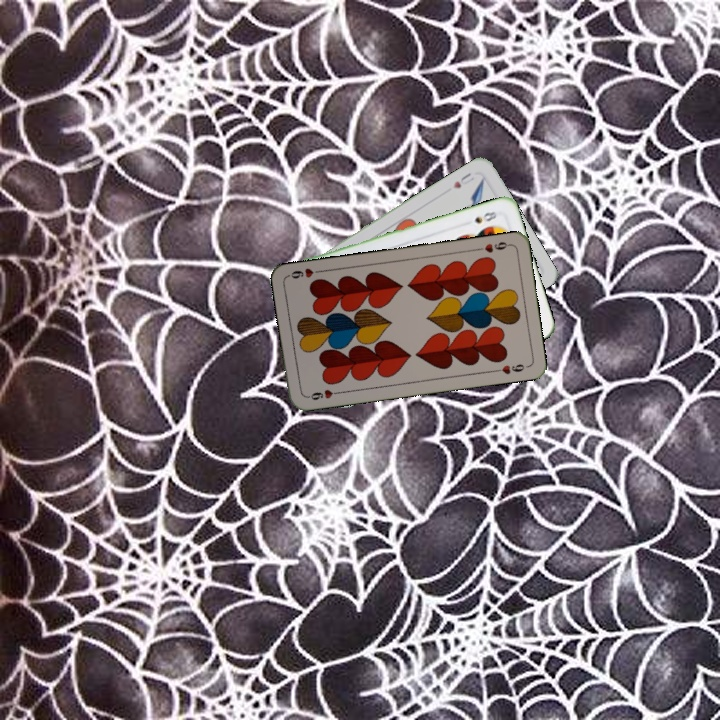H9: (473, 237, 513, 255), (303, 385, 343, 402)
HU: (449, 169, 477, 191)
S8: (471, 207, 499, 226)
